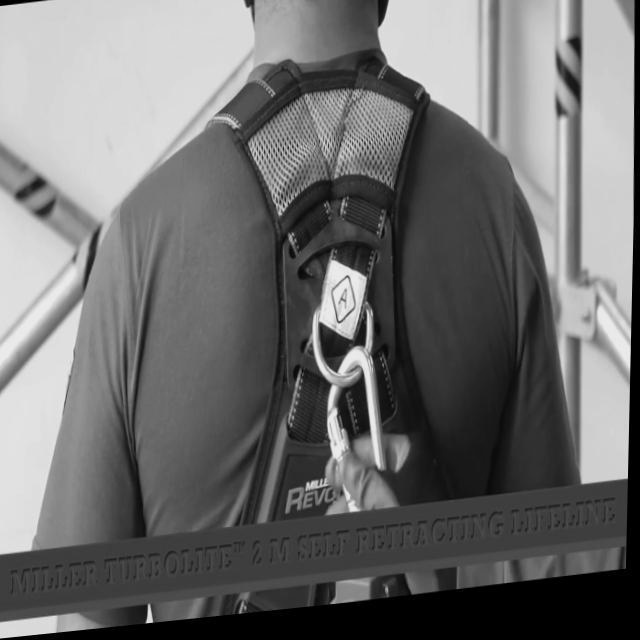safety belt: (193, 83, 437, 586)
